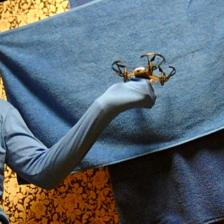drone: (112, 52, 176, 86)
